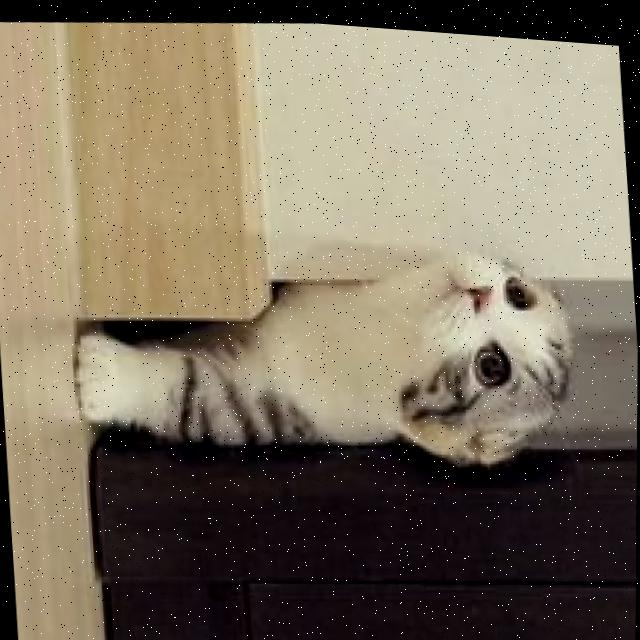Scottish Fold: (60, 211, 590, 501)
